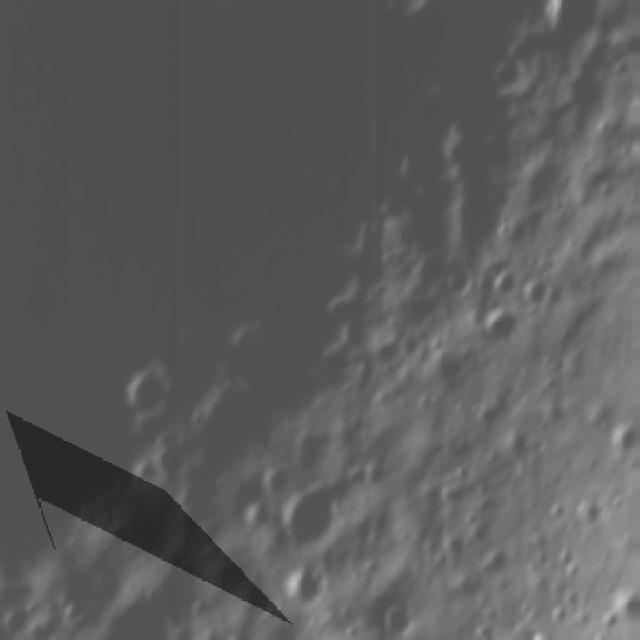crater: (268, 476, 348, 564), (123, 362, 177, 430), (543, 0, 609, 43), (478, 299, 534, 347), (373, 592, 427, 640), (492, 48, 538, 102), (502, 423, 548, 471), (439, 259, 478, 306), (478, 537, 518, 577), (606, 582, 640, 628), (3, 598, 42, 638), (607, 416, 640, 461), (634, 631, 640, 640)
